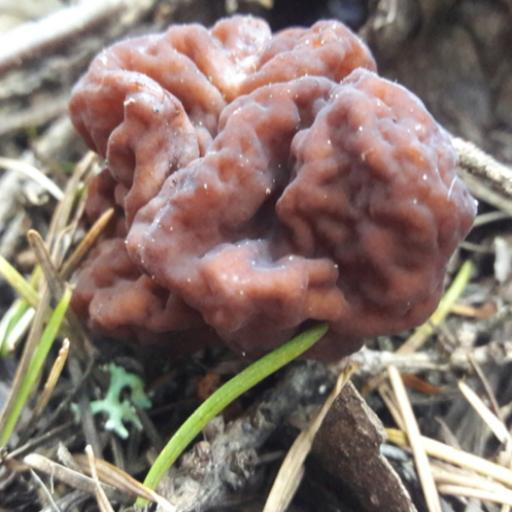mushroom: (55, 0, 494, 387)
